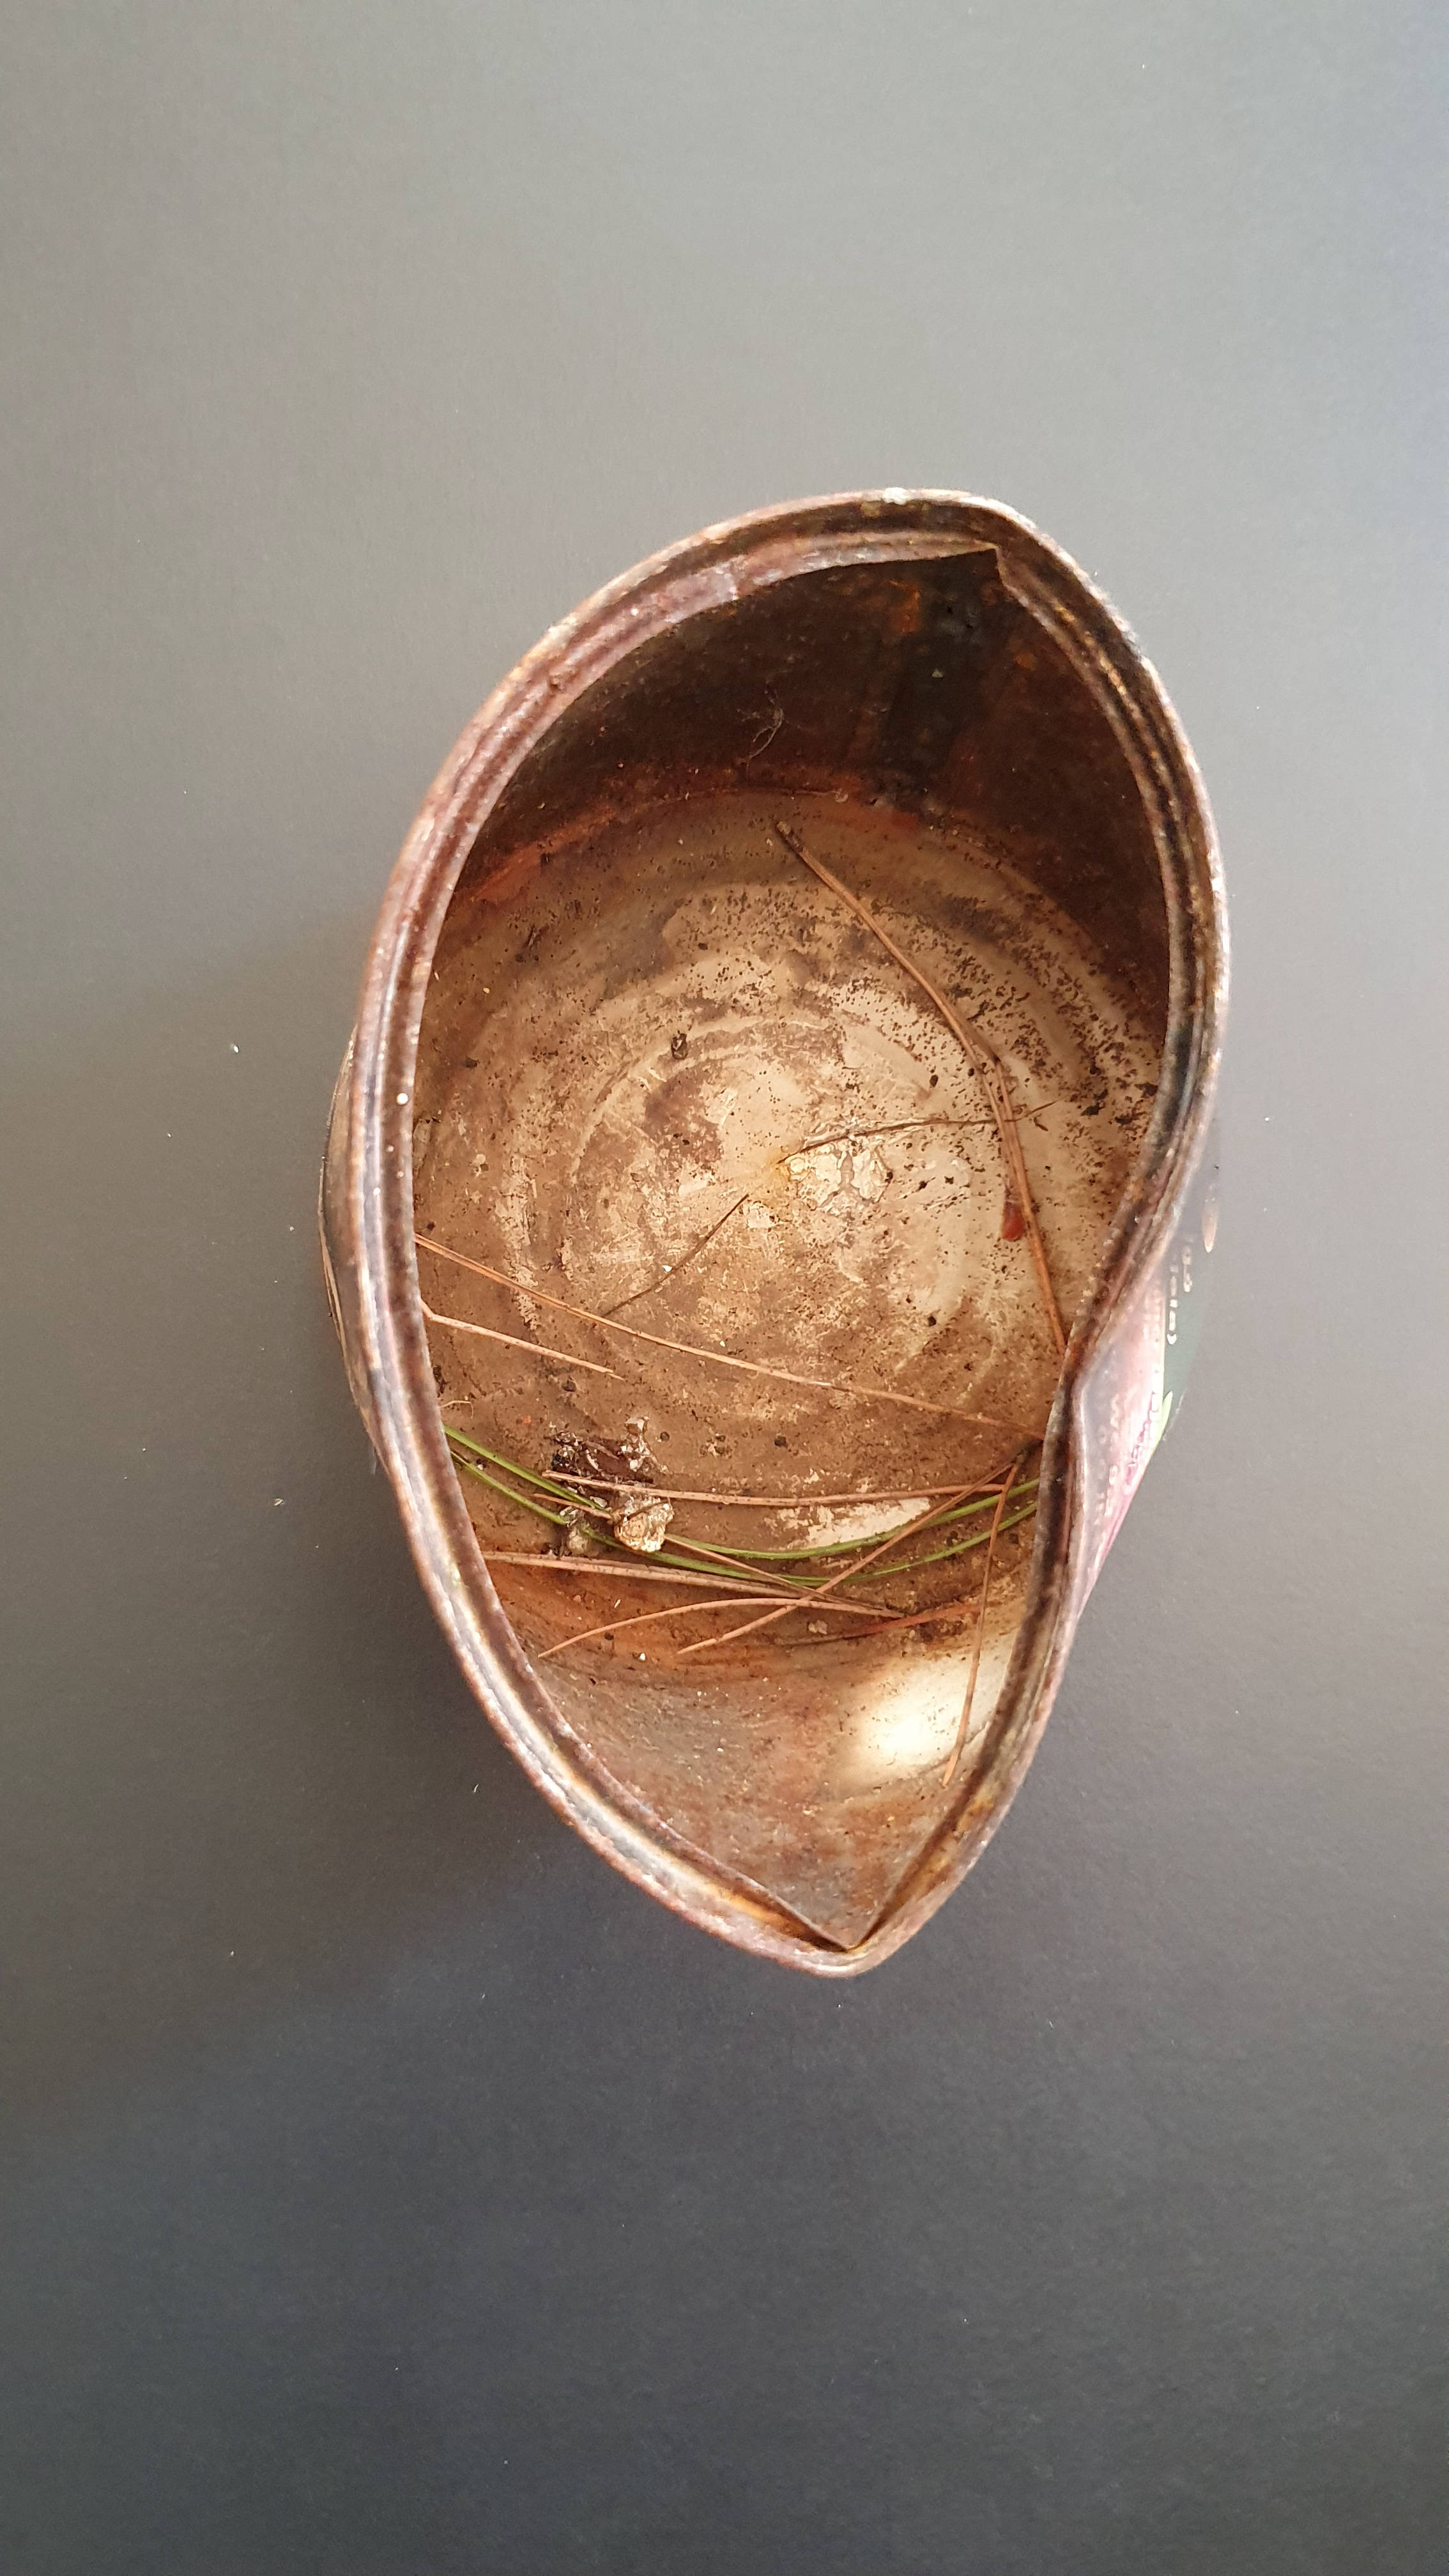metal: (269, 407, 1240, 2047)
